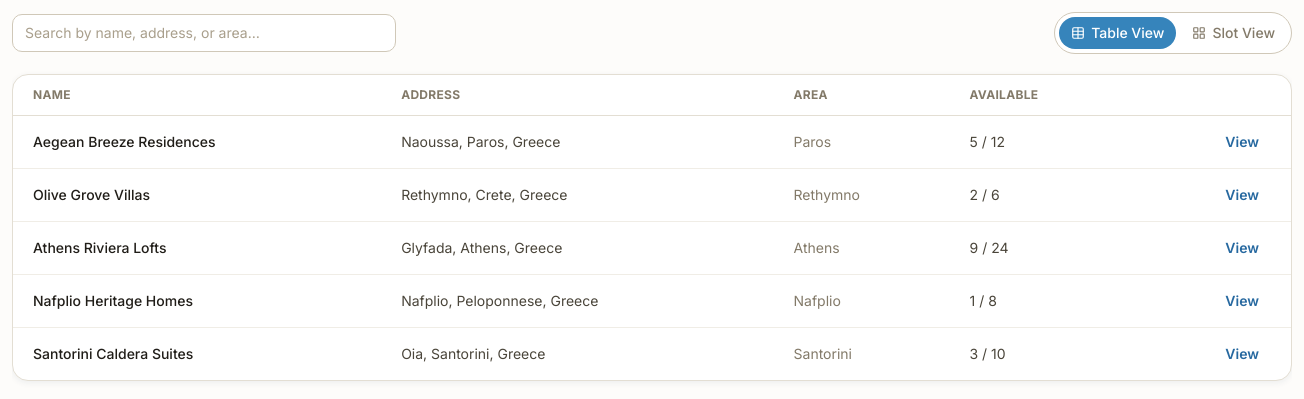
Test: ProjectsExplorer › filters by area even when the name and address don't match the query
Type "santorini" into the field named "Search projects".
click(204, 33); type("santorini")  # box [12,14,396,52]
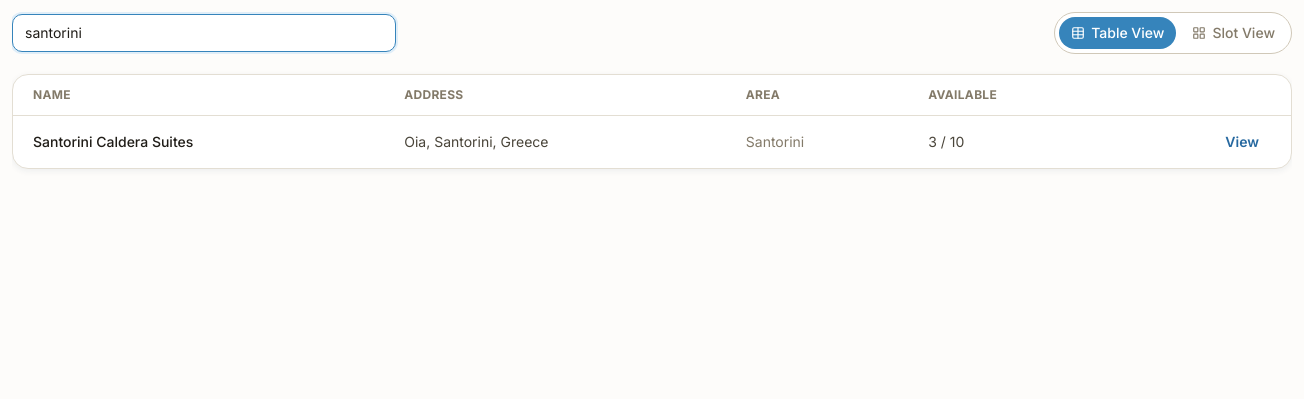
Expected: the text "Santorini Caldera Suites" is shown, [13,116,384,168]
Now the number of rows is 2, box [13,75,1291,116]; [13,116,1291,168]
